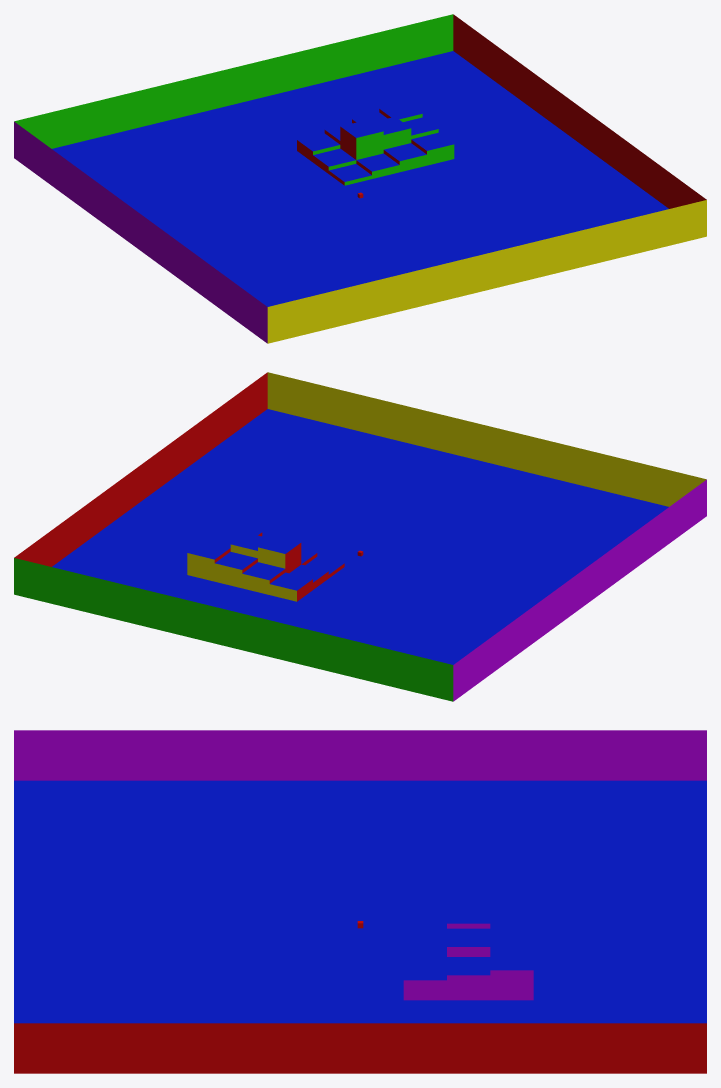
File: testRoom.dae
The picture shows the model from 3 angles, top to bottom: view 1: azimuth 30°, elevation 25°; view 2: azimuth 150°, elevation 25°; view 3: azimuth 270°, elevation 25°; orthographic projection. The views are drawn at different scales.
Parts seen in each view (by area): view 1: Cube; view 2: Cube; view 3: Cube.
Part boxes in pixels (<box>): Cube: <box>14,14,706,343</box>; Cube: <box>14,372,706,701</box>; Cube: <box>14,730,706,1073</box>.
Size of the model in its own units: 125 by 125 by 10.
